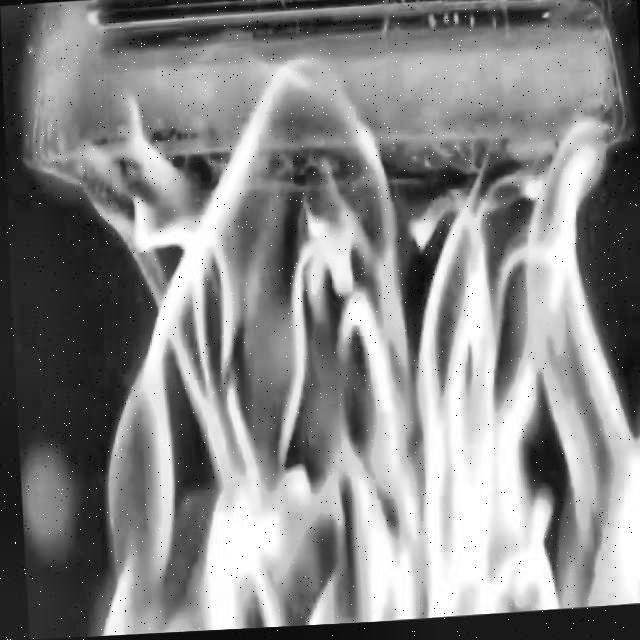Fire: (57, 42, 640, 638)
